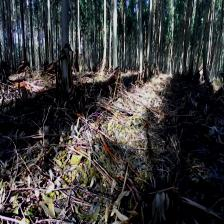trunk: (58, 5, 72, 92), (110, 4, 120, 84), (136, 4, 145, 84)
